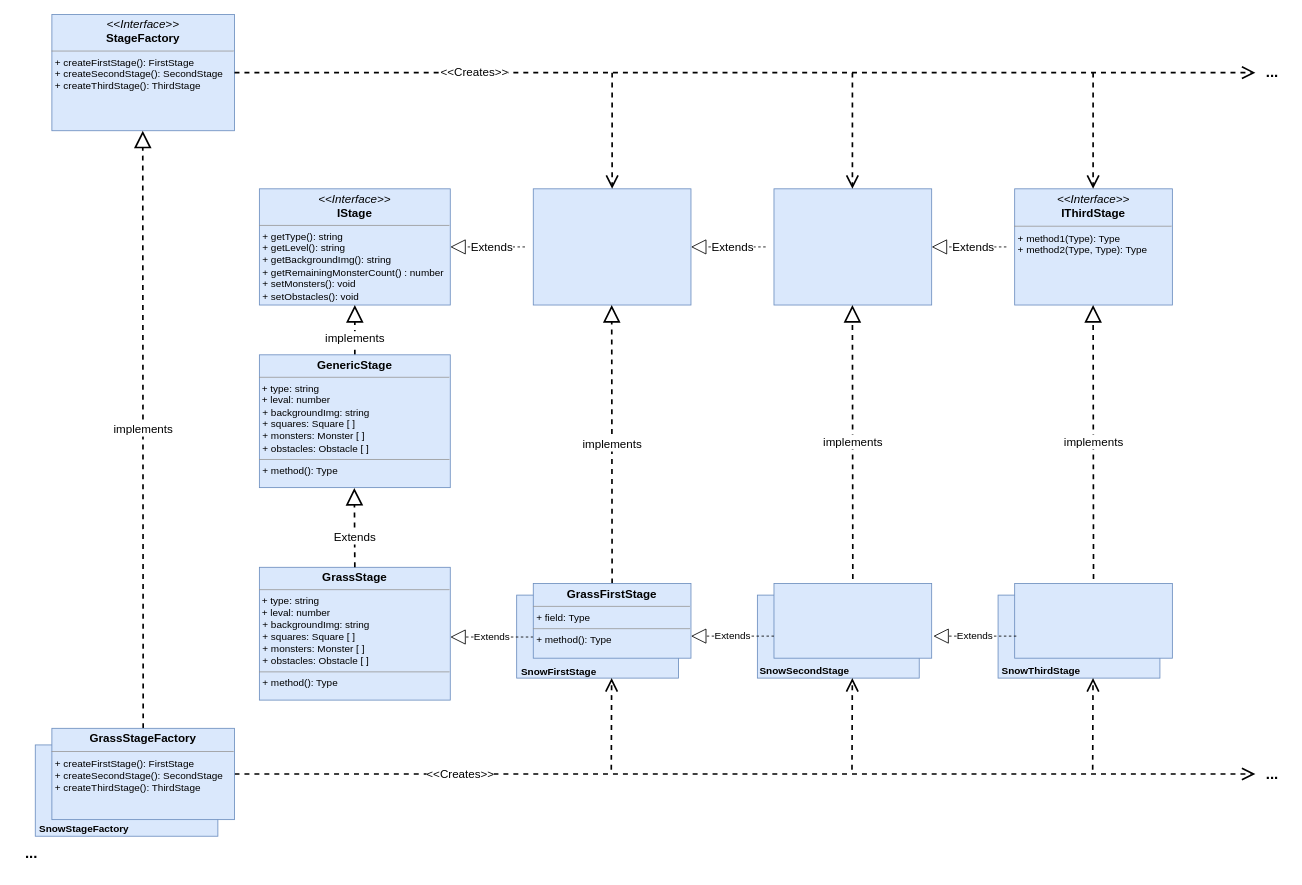
Image size: 1302x885. Some labels were removed from this diagram. Here are the shapes that lost their labels. From the top down, the centre of each, then its label:
At point 611,246: "<<Interface>> IFirstStage + method1(Type): Type + method2(Type, Type): Type".
At point 852,246: "<<Interface>> ISecondStage + method1(Type): Type + method2(Type, Type): Type".
At point 852,620: "GrassSecondStage + field: Type + method(): Type".
At point 1093,620: "Grass ThirdStage + field: Type + method(): Type".
